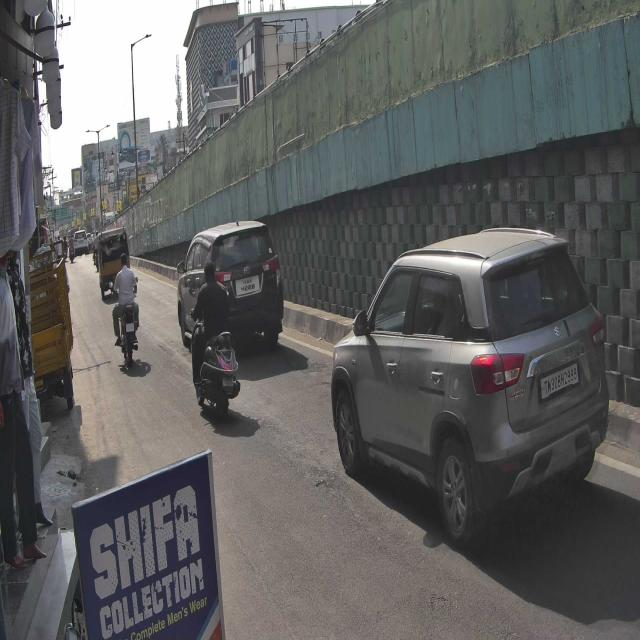single_rider: (188, 260, 242, 424), (109, 251, 141, 365)
